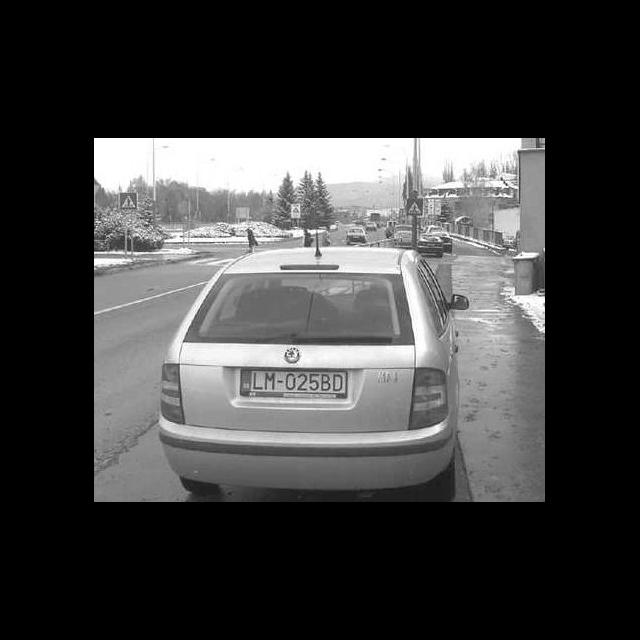Plate: (238, 366, 348, 398)
